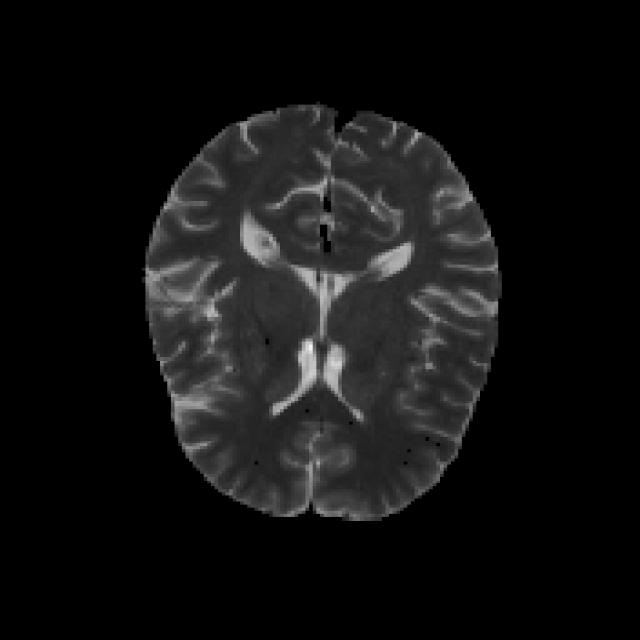parkinson: (138, 98, 502, 520)
